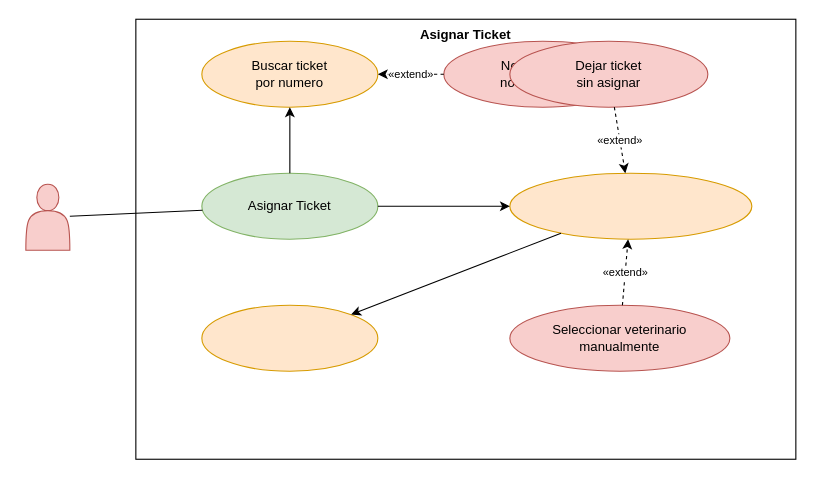
This 815x479 diagram has some shape labels left out. Here are the shapes that lost their labels. From the top down, the centre of each, then its label:
At point 47,216: "Gestor de Consultas (sistema)".
At point 630,205: "Buscar veterinario con menor carga por especialidad".
At point 289,337: "Registrar asignacion en bitacora".
